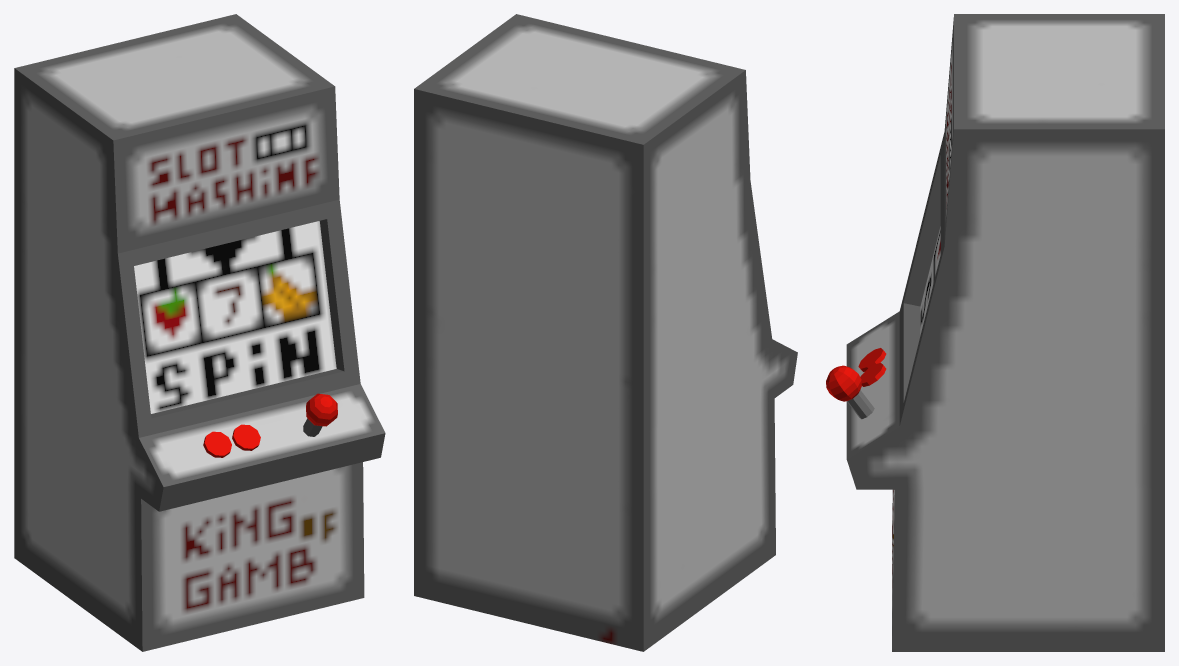
Rendered from Slot-Mashine.fbx.
3 renders of one model, left to right at view 1: azimuth 30°, elevation 25°; view 2: azimuth 150°, elevation 25°; view 3: azimuth 270°, elevation 25°, orthographic. The views are drawn at different scales.
Visible parts, largest first — view 1: Cube, Sphere, Cylinder.001, Cylinder.002; view 2: Cube; view 3: Cube, Sphere.
Part boxes in pixels (box(x1,y1,x2,y2)): Cube: box(14, 14, 385, 651); Sphere: box(306, 393, 337, 426); Cylinder.001: box(203, 431, 231, 457); Cylinder.002: box(232, 424, 260, 450); Cube: box(414, 14, 797, 651); Cube: box(846, 14, 1164, 651); Sphere: box(826, 365, 861, 401).
Size of the model in its own units: 90 by 190 by 112.
